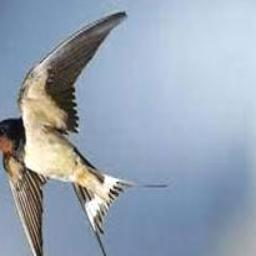Swallow: (0, 10, 167, 256)
